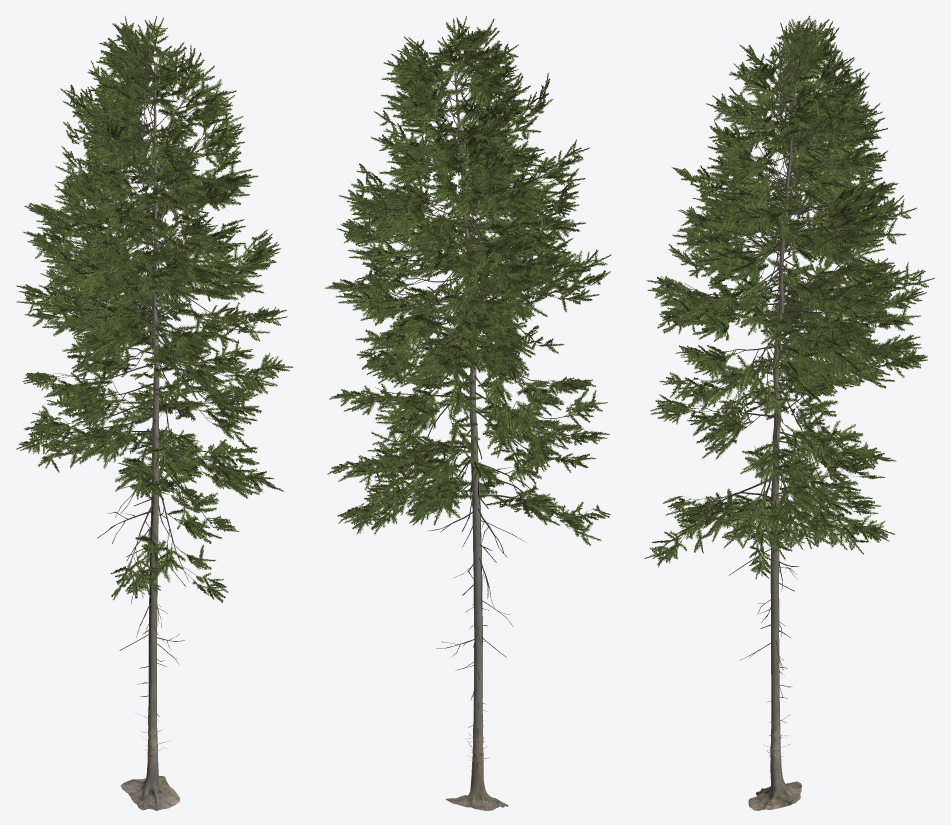
File: MatureFir_A.fbx
The picture shows the model from 3 angles, left to right: view 1: azimuth 30°, elevation 25°; view 2: azimuth 150°, elevation 25°; view 3: azimuth 270°, elevation 25°; orthographic projection. The views are drawn at different scales.
Visible parts, largest first — view 1: MatureFir_A_LOD0_Foliage, MatureFir_A_LOD1_Foliage, MatureFir_A_LOD0_Branches, MatureFir_A_LOD2_Trunk, MatureFir_A_LOD0_Trunk, MatureFir_A_LOD1_Trunk, MatureFir_A_LOD1_Branches; view 2: MatureFir_A_LOD0_Foliage, MatureFir_A_LOD1_Foliage, MatureFir_A_LOD0_Branches, MatureFir_A_LOD2_Trunk, MatureFir_A_LOD1_Trunk, MatureFir_A_LOD0_Trunk, MatureFir_A_LOD1_Branches, MatureFir_A_LOD0_DeadBranches; view 3: MatureFir_A_LOD0_Foliage, MatureFir_A_LOD1_Foliage, MatureFir_A_LOD0_Branches, MatureFir_A_LOD2_Trunk, MatureFir_A_LOD0_Trunk, MatureFir_A_LOD1_Trunk, MatureFir_A_LOD1_Branches.
Boxes of the visible parts, bbox=[...] form: MatureFir_A_LOD0_Foliage: bbox=[16, 16, 293, 602]; MatureFir_A_LOD1_Foliage: bbox=[16, 16, 292, 602]; MatureFir_A_LOD0_Branches: bbox=[43, 38, 263, 587]; MatureFir_A_LOD2_Trunk: bbox=[122, 95, 179, 810]; MatureFir_A_LOD0_Trunk: bbox=[121, 82, 179, 810]; MatureFir_A_LOD1_Trunk: bbox=[121, 88, 179, 810]; MatureFir_A_LOD1_Branches: bbox=[42, 43, 255, 572]; MatureFir_A_LOD0_Foliage: bbox=[327, 16, 611, 545]; MatureFir_A_LOD1_Foliage: bbox=[324, 16, 610, 544]; MatureFir_A_LOD0_Branches: bbox=[351, 38, 591, 528]; MatureFir_A_LOD2_Trunk: bbox=[447, 73, 507, 810]; MatureFir_A_LOD1_Trunk: bbox=[447, 74, 507, 810]; MatureFir_A_LOD0_Trunk: bbox=[446, 73, 508, 810]; MatureFir_A_LOD1_Branches: bbox=[359, 50, 578, 521]; MatureFir_A_LOD0_DeadBranches: bbox=[428, 444, 539, 727]; MatureFir_A_LOD0_Foliage: bbox=[648, 15, 934, 578]; MatureFir_A_LOD1_Foliage: bbox=[644, 16, 934, 579]; MatureFir_A_LOD0_Branches: bbox=[673, 40, 898, 559]; MatureFir_A_LOD2_Trunk: bbox=[749, 85, 801, 810]; MatureFir_A_LOD0_Trunk: bbox=[748, 86, 801, 810]; MatureFir_A_LOD1_Trunk: bbox=[748, 85, 801, 810]; MatureFir_A_LOD1_Branches: bbox=[676, 48, 895, 549].
Bounding box in the file's own units: 6.58 × 18.96 × 6.47.
